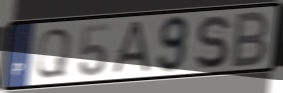5: (77, 22, 112, 79)
9: (154, 14, 190, 76)
A: (108, 19, 153, 76)
B: (228, 9, 271, 70)
Q: (33, 27, 74, 80)
S: (193, 13, 232, 71)
